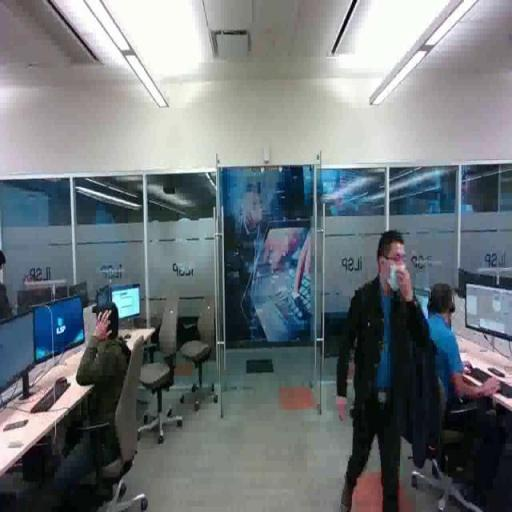person: (332, 228, 429, 512), (412, 279, 506, 467), (71, 286, 141, 476)
